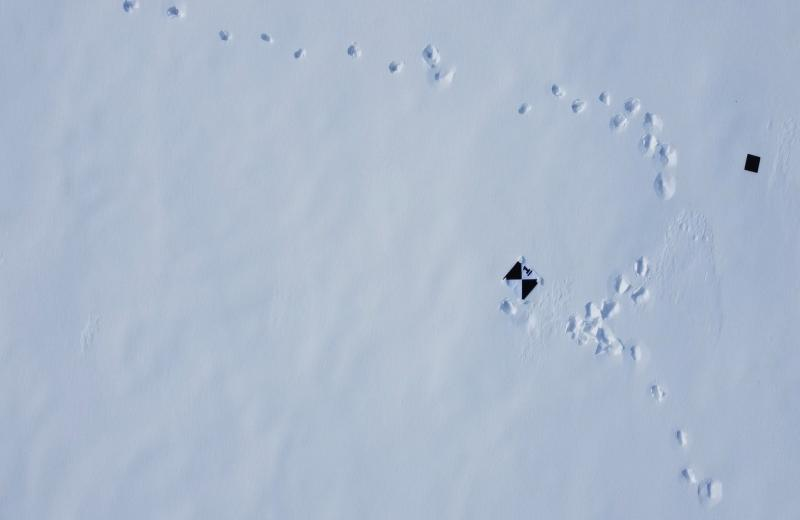Square: (742, 148, 765, 176)
